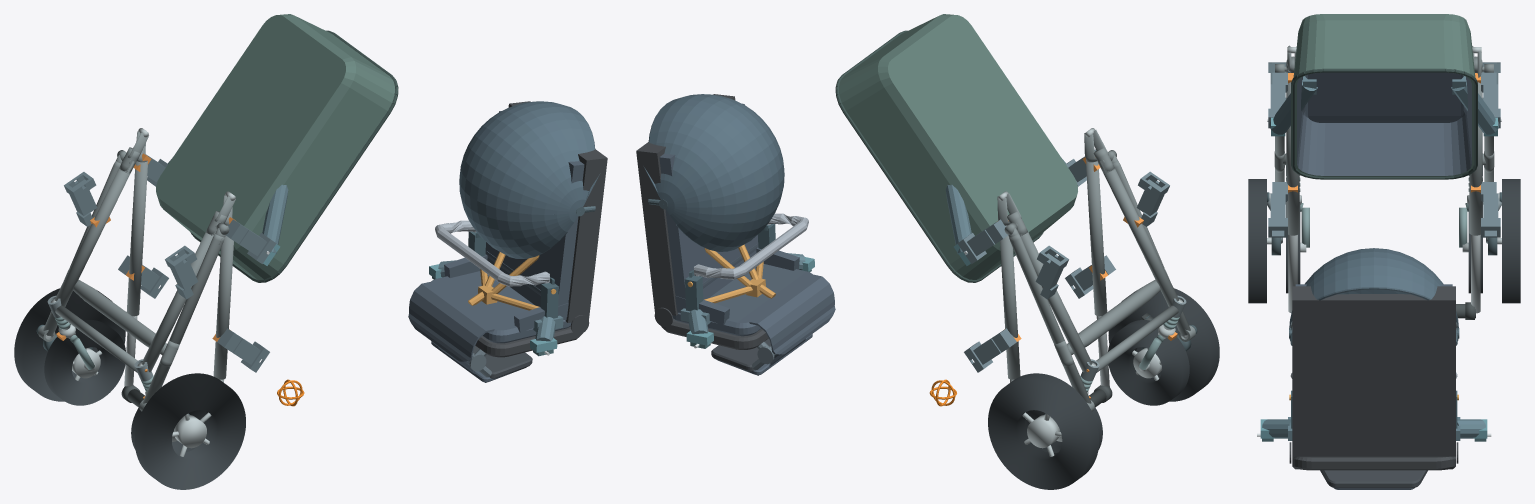
The model's file is D08_w550_state3_wheel_M.glb.
The picture shows the model from 3 angles, left to right: view 1: azimuth 30°, elevation 25°; view 2: azimuth 150°, elevation 25°; view 3: azimuth 270°, elevation 25°; orthographic projection. The views are drawn at different scales.
Visible parts, largest first — view 1: D08_Upper, D08_Lower, RL_tire.004, FR_tire.004, RR_tire.004, main_upper_1.005, main_lower_1.005, V46_rear_leg_-1.005, main_upper_-1.005, V46_rearbar.005, main_lower_-1.005, D08_Upper_Mount_H (+9 smaller); view 2: D08_Upper, D08_Lower, RR_tire.004, FL_tire.004, RL_tire.004, main_upper_-1.005, main_lower_-1.005, V46_rear_leg_1.005, main_upper_1.005, V46_rearbar.005, main_lower_1.005, D08_Upper_Mount_H (+9 smaller); view 3: D08_Upper, D08_Lower, RL_tire.004, RR_tire.004, D08_Lower_Mount_M, D08_Upper_Mount_H, main_upper_1.005, main_upper_-1.005, Universal_Cabin_Receiver_H_1, Universal_Cabin_Receiver_H_-1, handle_slider_1.004, Universal_Cabin_Receiver_M_-1 (+8 smaller).
Boxes of the visible parts, x1,y1,x2,y2 form: D08_Upper: [408, 101, 607, 382]; D08_Lower: [156, 14, 398, 282]; RL_tire.004: [134, 373, 245, 489]; FR_tire.004: [44, 320, 125, 405]; RR_tire.004: [14, 288, 125, 401]; main_upper_1.005: [126, 161, 147, 316]; main_lower_1.005: [55, 161, 134, 306]; V46_rear_leg_-1.005: [142, 233, 224, 403]; main_upper_-1.005: [213, 225, 233, 379]; V46_rearbar.005: [73, 279, 166, 355]; main_lower_-1.005: [141, 230, 216, 372]; D08_Upper_Mount_H: [429, 260, 563, 356]; D08_Upper: [636, 94, 835, 375]; D08_Lower: [835, 14, 1077, 282]; RR_tire.004: [988, 373, 1099, 489]; FL_tire.004: [1108, 320, 1189, 405]; RL_tire.004: [1108, 288, 1219, 401]; main_upper_-1.005: [1086, 161, 1107, 316]; main_lower_-1.005: [1099, 161, 1178, 306]; V46_rear_leg_1.005: [1009, 234, 1091, 403]; main_upper_1.005: [1000, 225, 1020, 379]; V46_rearbar.005: [1067, 279, 1160, 355]; main_lower_1.005: [1017, 230, 1092, 372]; D08_Upper_Mount_H: [680, 253, 814, 348]; D08_Upper: [1289, 248, 1459, 489]; D08_Lower: [1291, 14, 1477, 179]; RL_tire.004: [1248, 179, 1266, 303]; RR_tire.004: [1502, 179, 1520, 303]; D08_Lower_Mount_M: [1267, 76, 1501, 136]; D08_Upper_Mount_H: [1257, 417, 1491, 441]; main_upper_1.005: [1469, 82, 1482, 235]; main_upper_-1.005: [1286, 82, 1299, 235]; Universal_Cabin_Receiver_H_1: [1481, 182, 1500, 237]; Universal_Cabin_Receiver_H_-1: [1268, 182, 1287, 237]; handle_slider_1.004: [1471, 235, 1480, 313]; Universal_Cabin_Receiver_M_-1: [1268, 72, 1287, 128].
Bounding box in the file's own units: 1.45 × 1.01 × 0.656.
